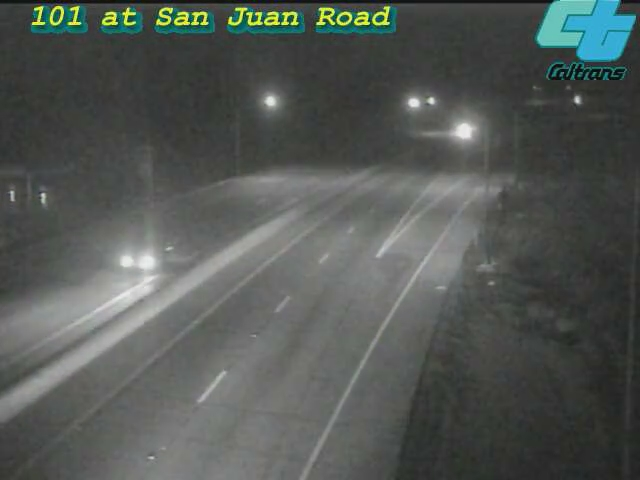vehicle: (98, 219, 178, 299), (443, 105, 493, 155)
